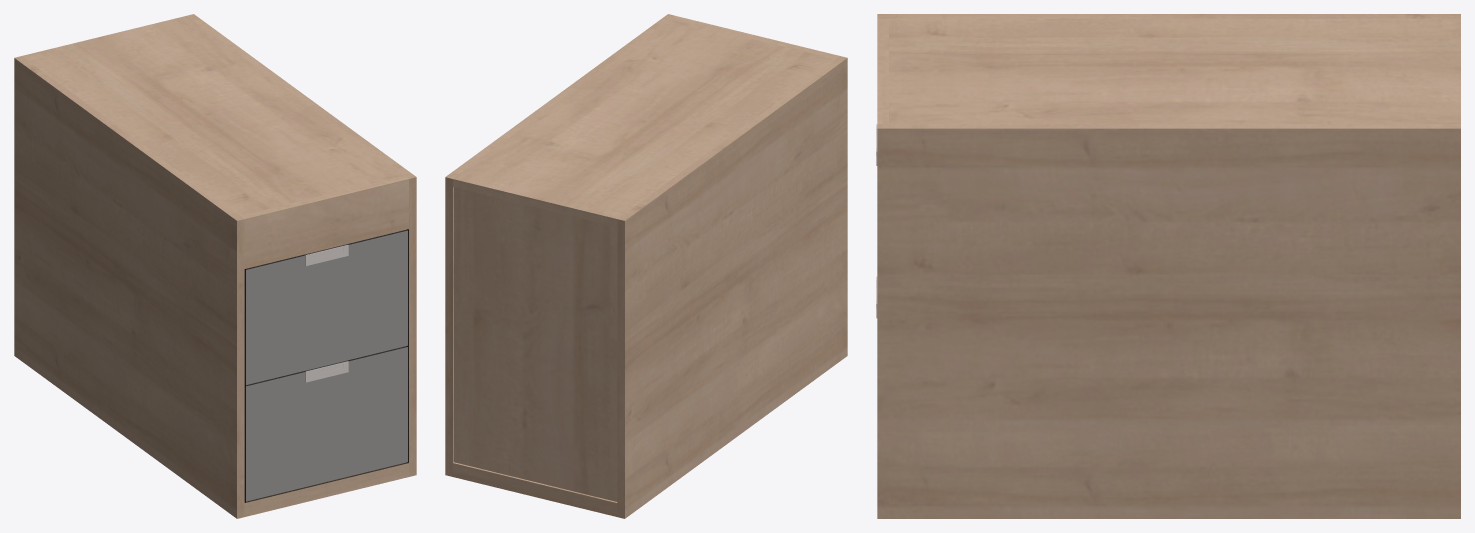
3 renders of one model, left to right at view 1: azimuth 30°, elevation 25°; view 2: azimuth 150°, elevation 25°; view 3: azimuth 270°, elevation 25°, orthographic. The views are drawn at different scales.
Visible parts, largest first — view 1: Mesh2_Agrupar_2_Model001, Mesh2_Agrupar_2_Model003, Mesh2_Agrupar_2_Model000, Mesh2_Agrupar_2_Model002, Mesh2_Agrupar_2_Model023, Mesh2_Agrupar_2_Model004; view 2: Mesh2_Agrupar_2_Model001; view 3: Mesh2_Agrupar_2_Model001.
Boxes of the visible parts, x1,y1,x2,y2 form: Mesh2_Agrupar_2_Model001: (14, 14, 416, 518); Mesh2_Agrupar_2_Model003: (245, 346, 407, 501); Mesh2_Agrupar_2_Model000: (245, 230, 407, 384); Mesh2_Agrupar_2_Model002: (244, 229, 408, 502); Mesh2_Agrupar_2_Model023: (305, 361, 348, 382); Mesh2_Agrupar_2_Model004: (305, 244, 348, 265); Mesh2_Agrupar_2_Model001: (445, 14, 847, 518); Mesh2_Agrupar_2_Model001: (877, 14, 1460, 518).
Bounding box in the file's own units: 0.94 × 1.49 × 2.02.
10 materials, 9 textured.
